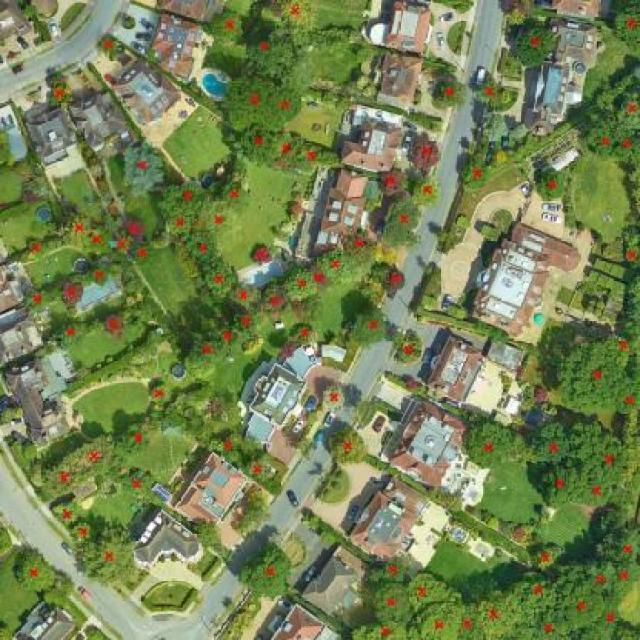tree: (556, 337, 616, 414), (76, 524, 145, 590), (235, 540, 303, 605), (503, 13, 566, 73), (219, 72, 278, 134), (457, 416, 518, 475), (240, 25, 302, 81), (118, 138, 172, 199), (570, 418, 633, 469), (8, 542, 64, 596), (557, 573, 605, 630), (379, 193, 424, 253), (473, 584, 521, 640), (408, 594, 466, 640), (150, 175, 213, 217), (511, 569, 567, 616), (410, 569, 470, 612), (539, 456, 581, 516), (230, 487, 278, 539), (209, 172, 265, 216), (289, 136, 346, 179), (523, 417, 574, 465), (234, 124, 285, 171), (346, 609, 423, 640), (334, 222, 386, 266), (577, 604, 640, 640), (569, 469, 620, 513), (194, 199, 246, 242), (350, 300, 393, 351), (205, 427, 257, 468), (362, 578, 418, 616), (325, 425, 373, 469), (180, 226, 229, 269), (205, 5, 250, 50), (199, 319, 241, 367), (68, 439, 126, 473), (271, 125, 309, 176), (55, 206, 97, 252), (198, 258, 239, 305), (270, 83, 310, 131), (266, 0, 320, 35), (186, 332, 225, 380), (42, 458, 86, 500), (427, 72, 471, 114), (606, 321, 640, 373), (585, 112, 616, 169), (117, 420, 158, 463), (609, 365, 640, 420), (313, 249, 359, 286), (607, 0, 640, 51), (76, 220, 115, 263), (188, 512, 226, 556), (533, 163, 570, 208), (408, 132, 445, 177), (407, 171, 448, 211), (609, 550, 640, 602), (317, 375, 352, 420), (366, 552, 412, 586), (456, 154, 496, 192), (578, 554, 618, 592), (50, 318, 96, 350), (96, 308, 135, 344), (518, 617, 578, 640), (40, 78, 78, 114), (54, 275, 89, 314), (284, 265, 318, 305), (614, 268, 640, 320), (374, 162, 409, 200), (259, 285, 298, 319), (611, 125, 640, 169), (456, 595, 484, 640), (241, 454, 278, 488), (306, 256, 337, 296), (612, 85, 640, 129), (472, 73, 510, 105), (380, 263, 411, 302), (612, 225, 640, 268), (81, 259, 119, 290), (67, 516, 99, 552), (390, 334, 427, 365), (20, 234, 55, 266), (116, 213, 152, 244), (49, 497, 85, 528), (611, 524, 640, 562), (287, 318, 321, 350), (0, 126, 23, 172), (245, 238, 278, 270), (22, 283, 53, 317), (162, 208, 196, 239), (621, 166, 640, 221), (231, 310, 262, 342), (96, 32, 125, 63), (127, 238, 158, 267), (248, 240, 277, 271), (146, 380, 175, 409), (106, 231, 134, 260), (531, 545, 560, 572), (276, 342, 302, 363)
